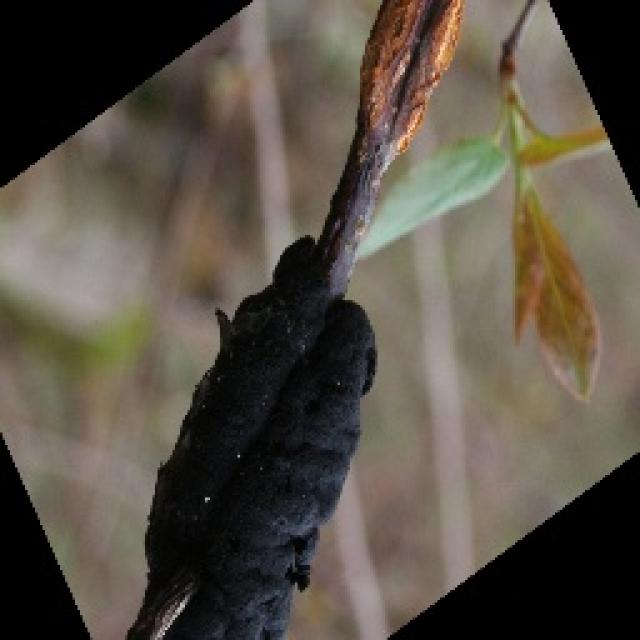Black_knot: (118, 230, 380, 638)
